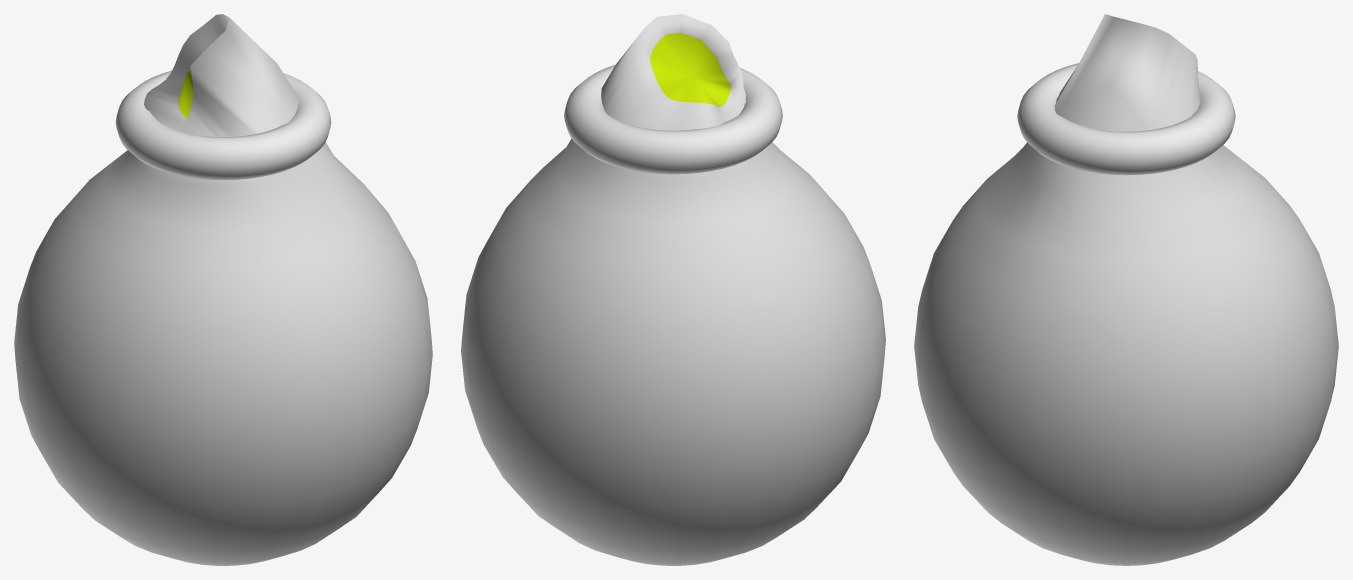
The model's file is coin pouch.fbx.
3 views of the same model, side by side, from view 1: azimuth 30°, elevation 25°; view 2: azimuth 150°, elevation 25°; view 3: azimuth 270°, elevation 25° (orthographic).
Visible parts, largest first — view 1: Sphere, Torus; view 2: Sphere, Torus; view 3: Sphere, Torus.
Part boxes in pixels (x1,y1,x2,y2): Sphere: (14,14,432,565); Torus: (115,70,331,179); Sphere: (461,14,885,565); Torus: (564,65,782,174); Sphere: (914,14,1338,565); Torus: (1017,63,1235,175).
Bounding box in the file's own units: 306 × 422 × 306.
